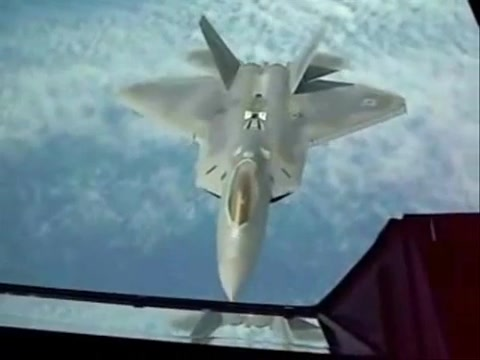aeroplane: (113, 16, 409, 303)
